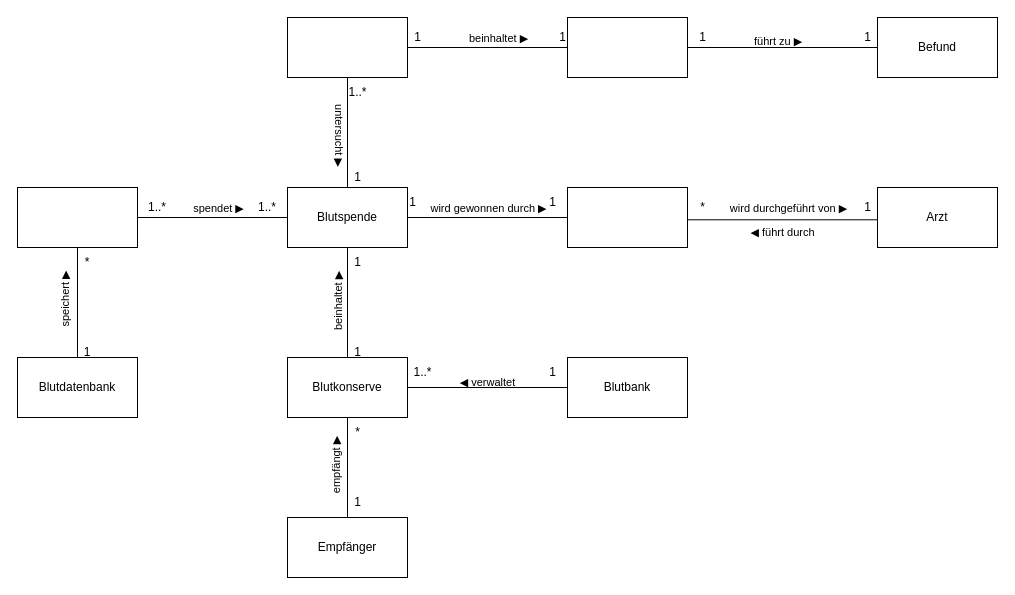
The diagram is 1015 pixels wide and 595 high, and some of its shapes have lost their labels. Here are the shapes that lost their labels. From the top down, the centre of each, then its label:
At (347,47): "Untersuchung".
At (627,47): "Krankheit".
At (77,217): "Spender".
At (627,217): "Blutabnahme".
